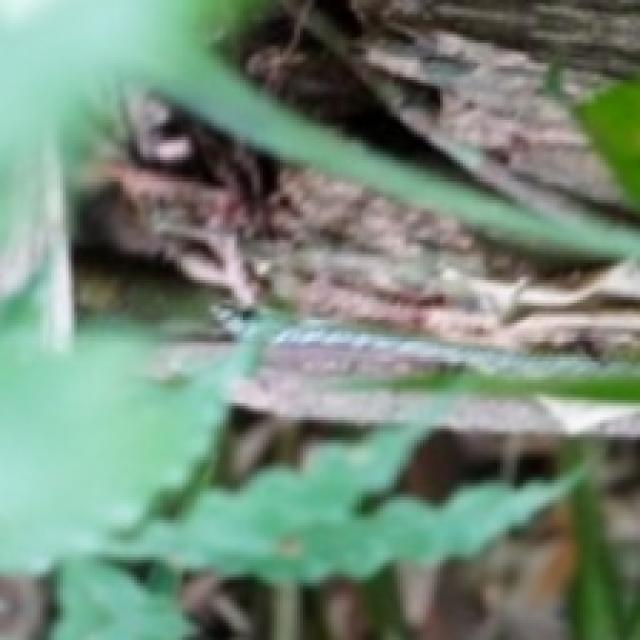paradise tree snake: (269, 321, 640, 377), (214, 306, 250, 336)
